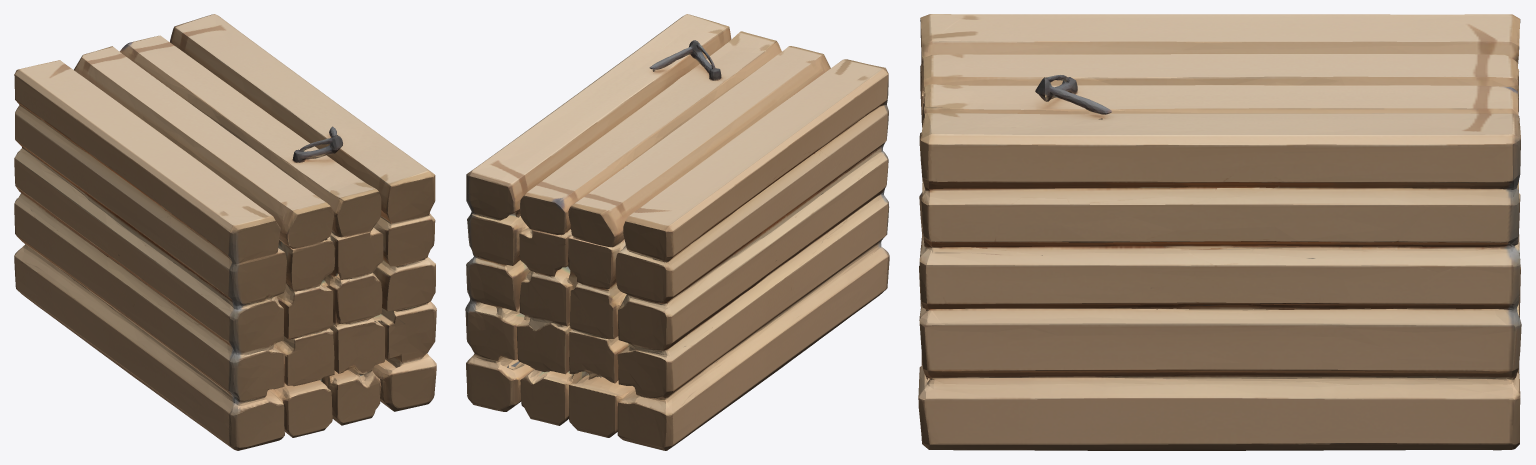
File: planks.glb
3 renders of one model, left to right at view 1: azimuth 30°, elevation 25°; view 2: azimuth 150°, elevation 25°; view 3: azimuth 270°, elevation 25°, orthographic. The views are drawn at different scales.
Parts seen in each view (by area): view 1: world; view 2: world; view 3: world.
Part boxes in pixels (box(x1,y1,x2,y2)): world: box(14, 14, 436, 450); world: box(465, 14, 889, 450); world: box(918, 14, 1521, 450).
Bounding box in the file's own units: 0.5367 × 0.6211 × 0.9988.
1 material, 1 textured.
